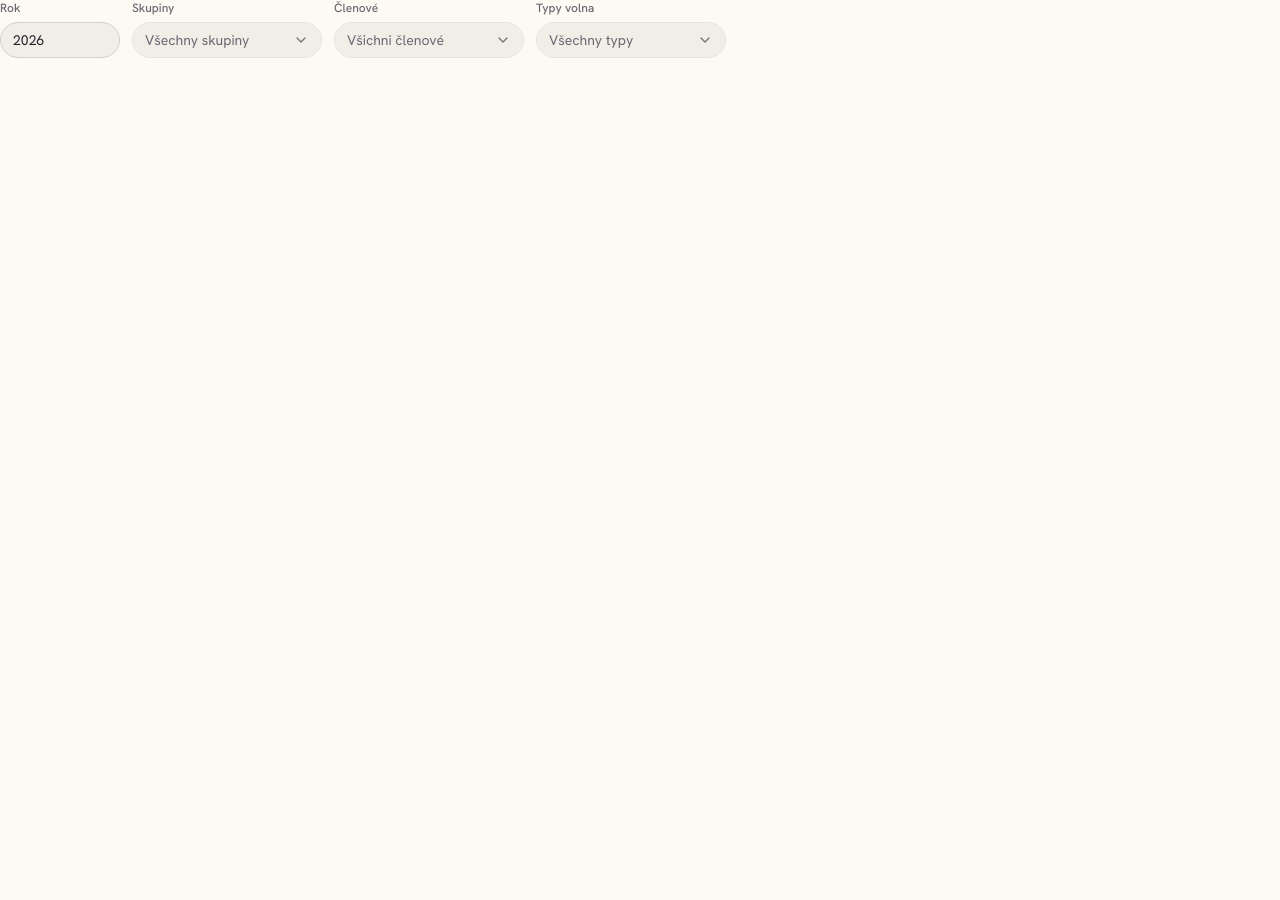
ReportFiltersBar › lists every filterable type in Czech, without bank holiday
Click the button with aria-label "Typy volna": click(631, 40) [536,22,726,58]
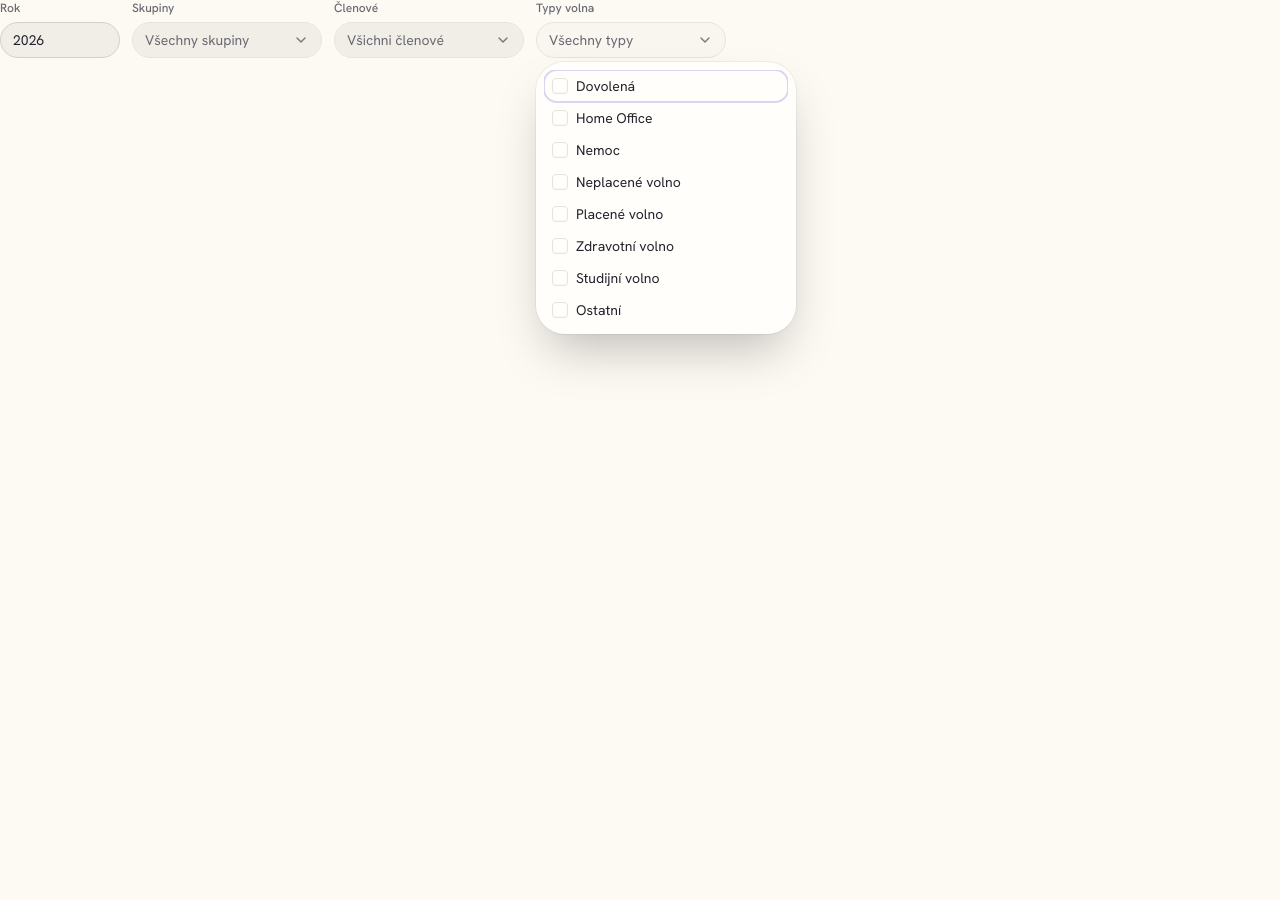
Expected: the option "Dovolená" is shown, [544,70,788,102]
Expected: the option "Home Office" is shown, [544,102,788,134]
Expected: the option "Nemoc" is shown, [544,134,788,166]
